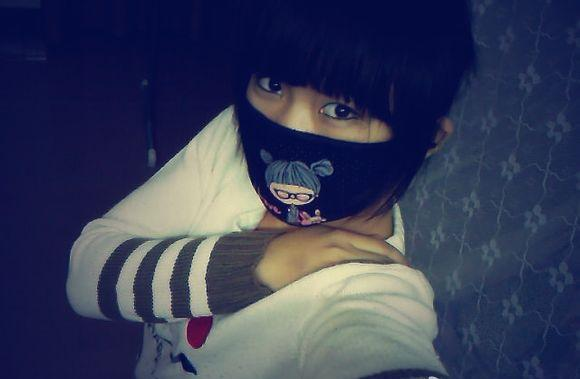OK: (244, 62, 403, 230)
